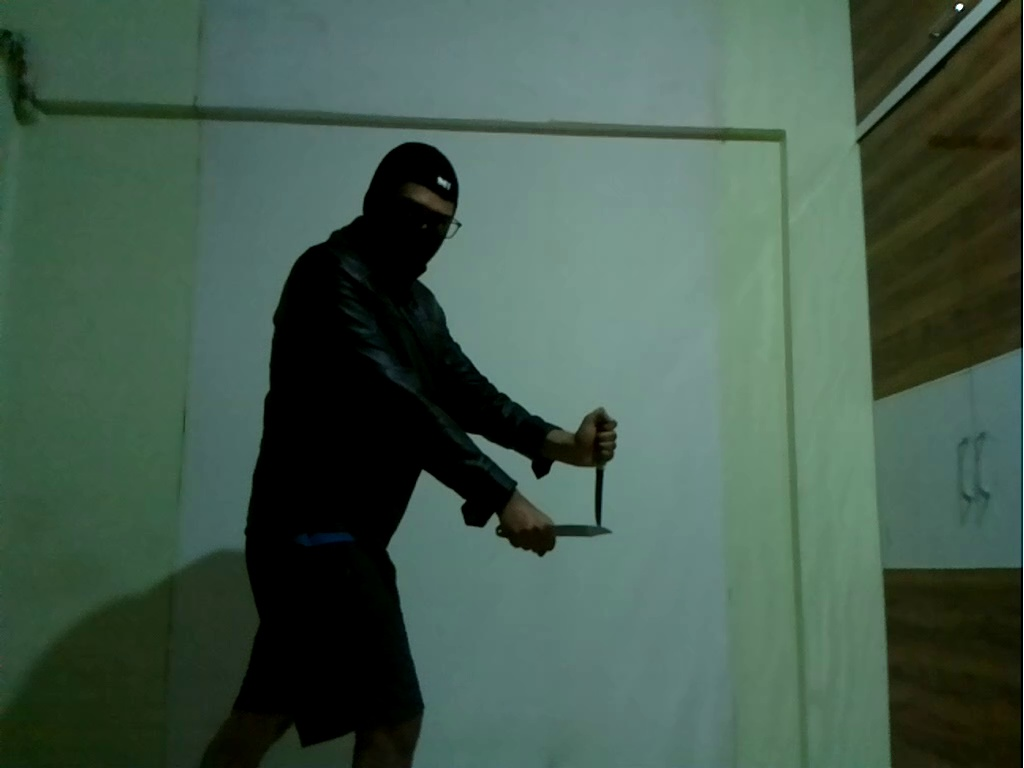knife: (588, 461, 610, 528), (548, 522, 623, 541)
